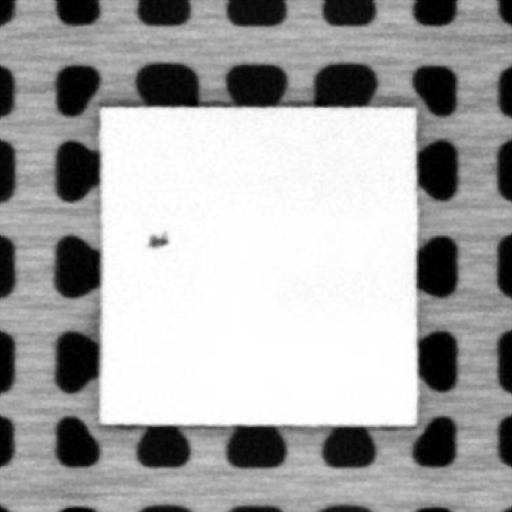DIE_INK: (144, 230, 169, 250)
